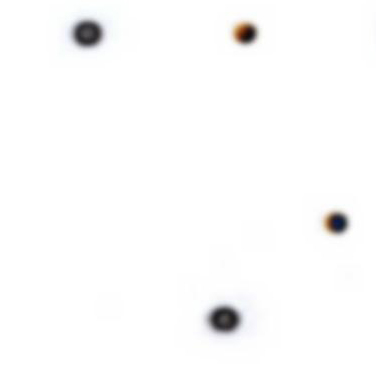cancer: (189, 281, 262, 349), (58, 4, 129, 61)
normal: (314, 208, 358, 251), (227, 14, 268, 58)
